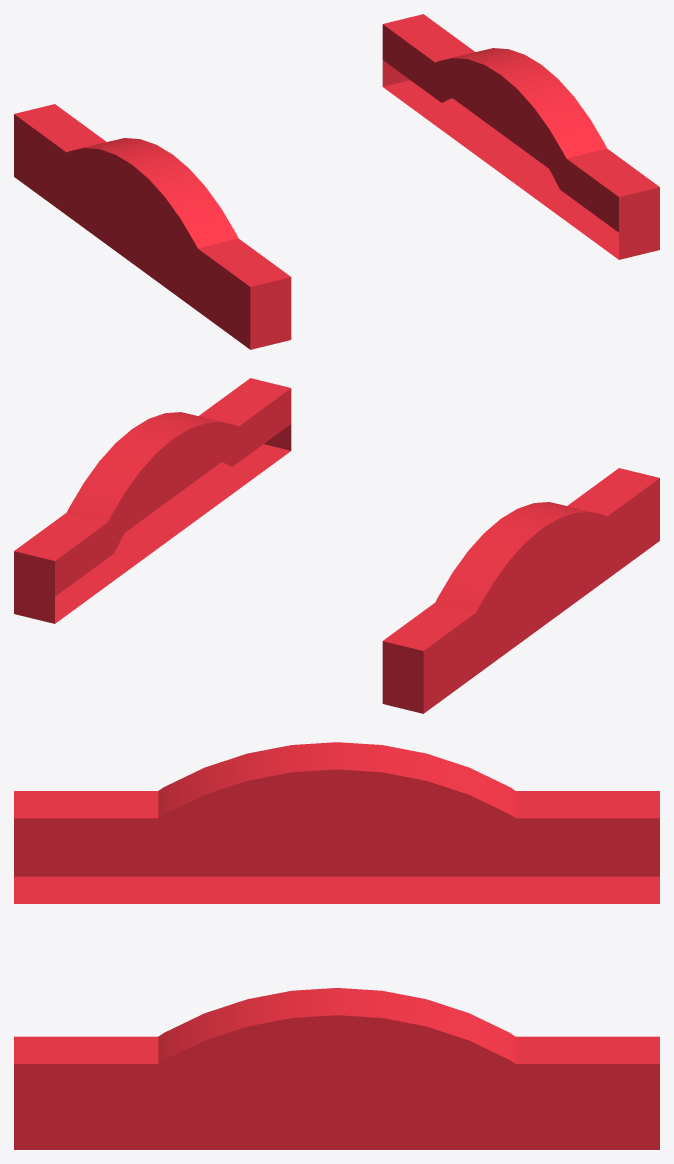
File: HillRound pared.FBX
3 views of the same model, one above another, from view 1: azimuth 30°, elevation 25°; view 2: azimuth 150°, elevation 25°; view 3: azimuth 270°, elevation 25° (orthographic). The views are drawn at different scales.
Visible parts, largest first — view 1: hillRound; view 2: hillRound; view 3: hillRound.
Part boxes in pixels (left/top/right/bottom): hillRound: left=14, top=14, right=659, bottom=349; hillRound: left=14, top=378, right=659, bottom=713; hillRound: left=14, top=742, right=659, bottom=1149.
Size of the model in its own units: 99.99 by 23 by 99.99.
